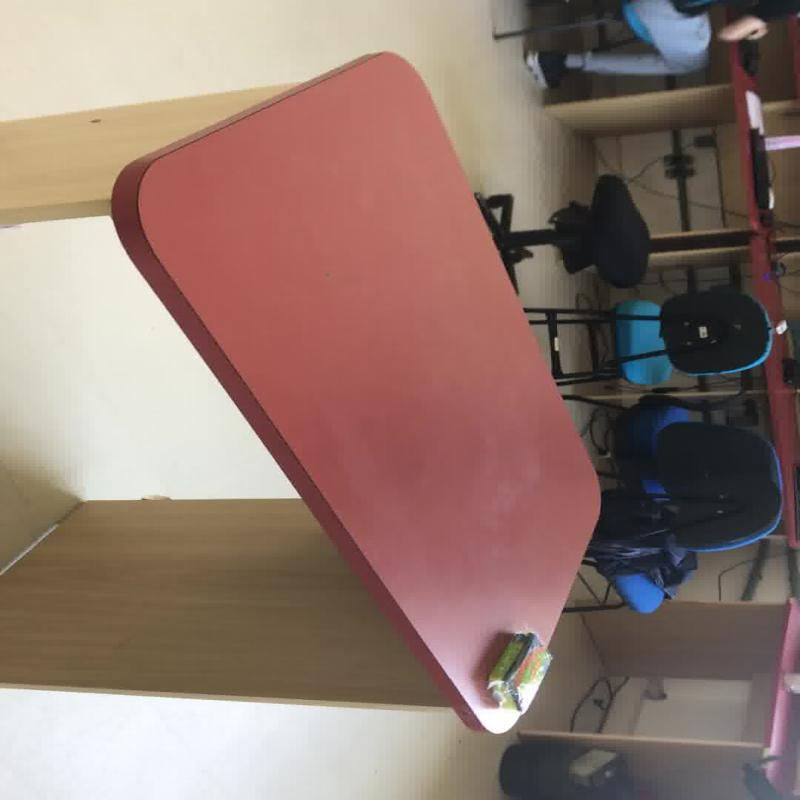sponge: (107, 49, 604, 733)
